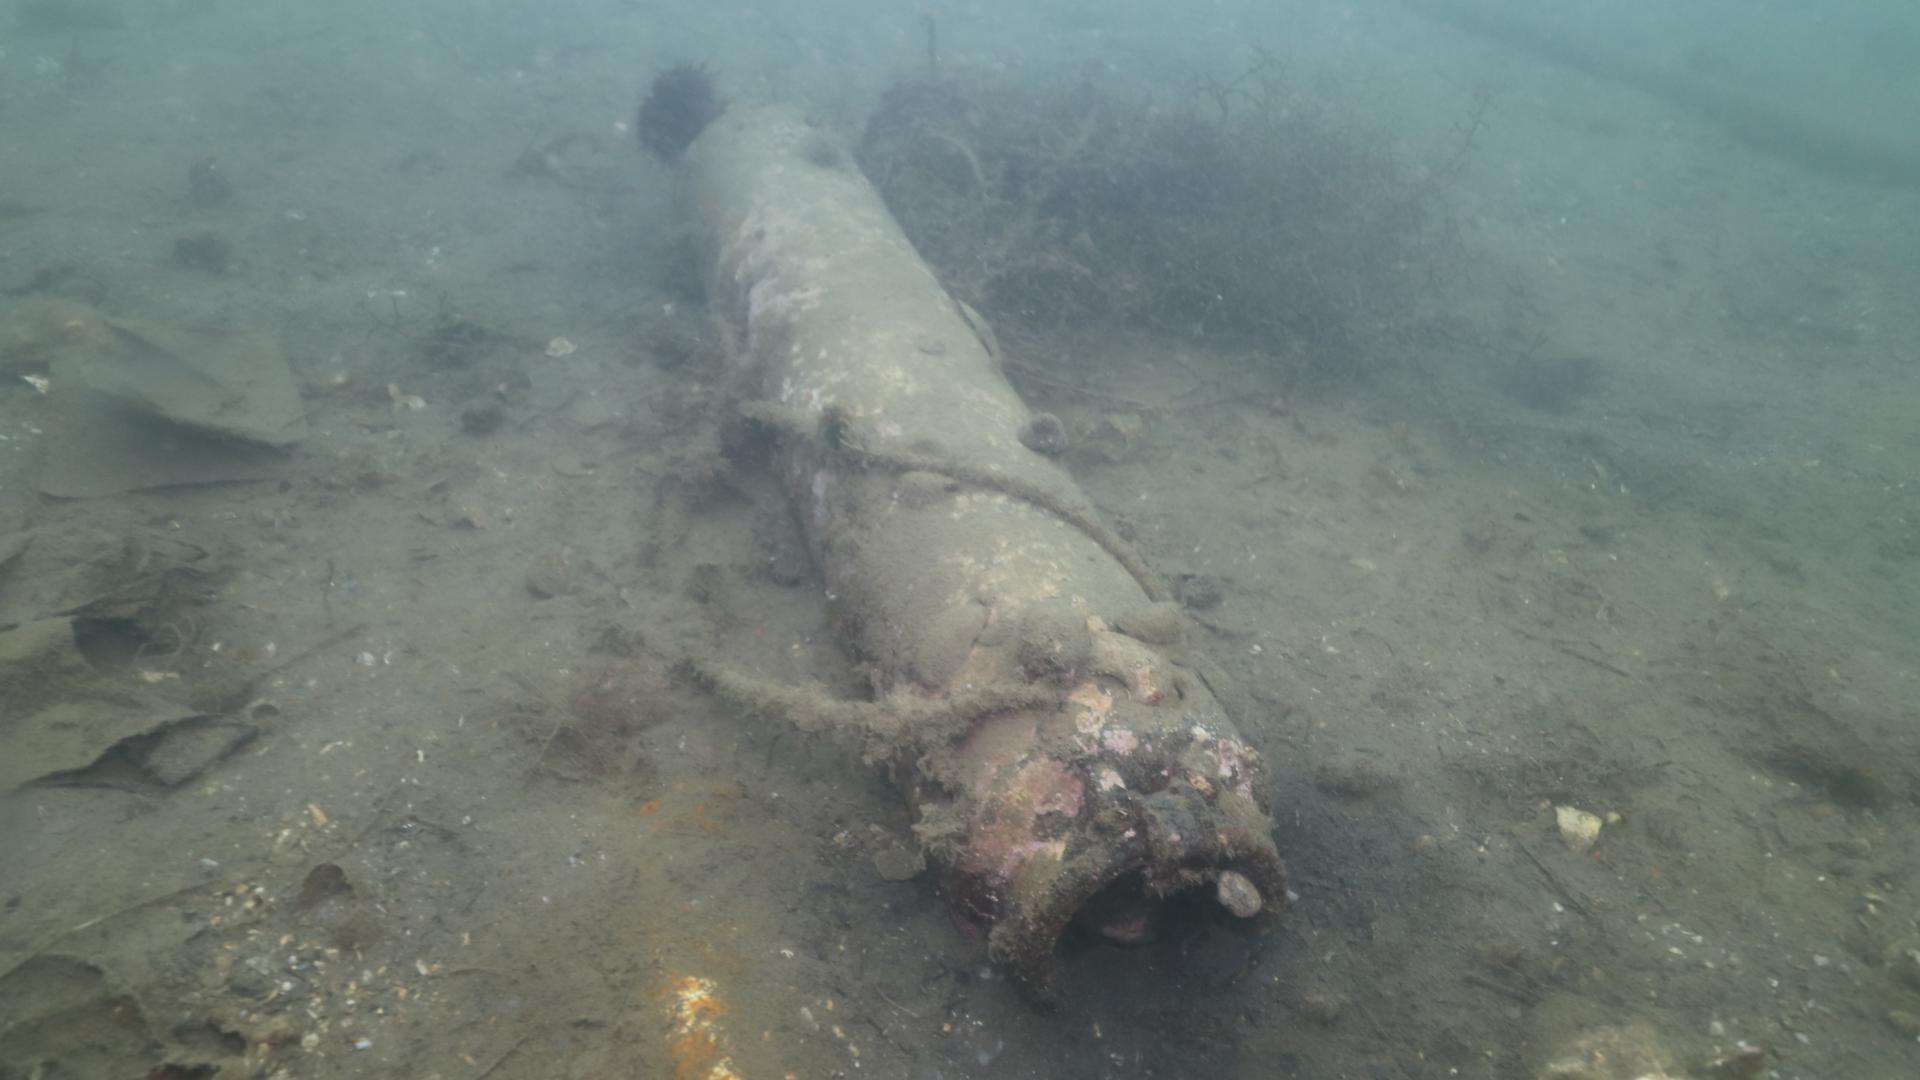eel fish trap: (674, 98, 1294, 998)
rope: (732, 398, 1179, 607)
